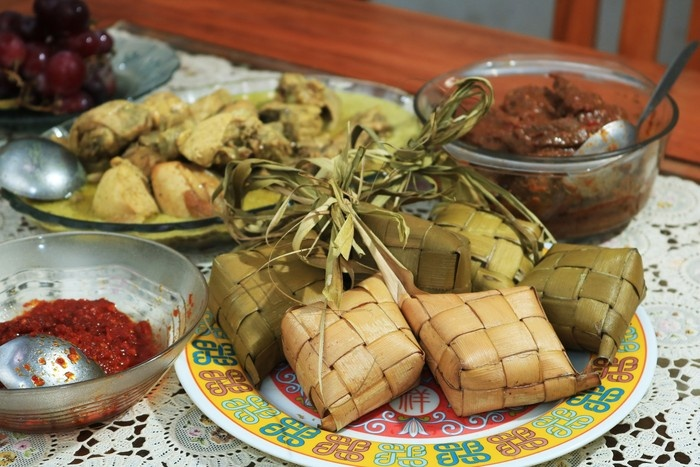ketupat: (279, 271, 425, 433), (401, 287, 581, 418), (520, 243, 648, 357)
